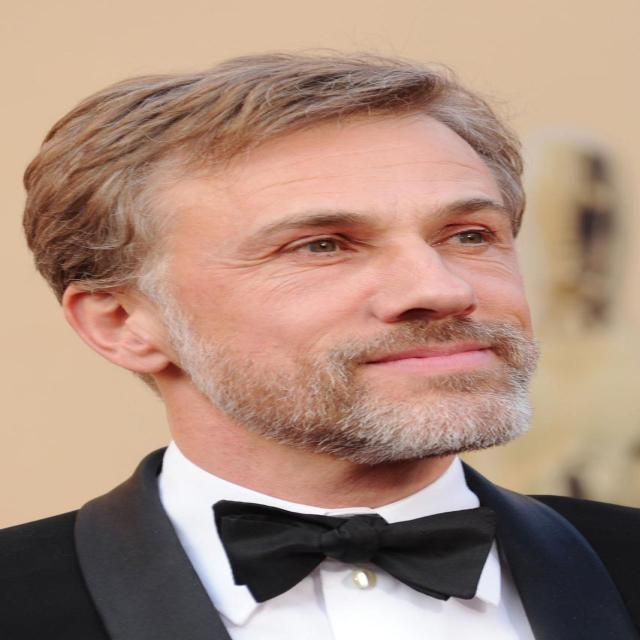no-earmuff: (50, 272, 215, 392)
